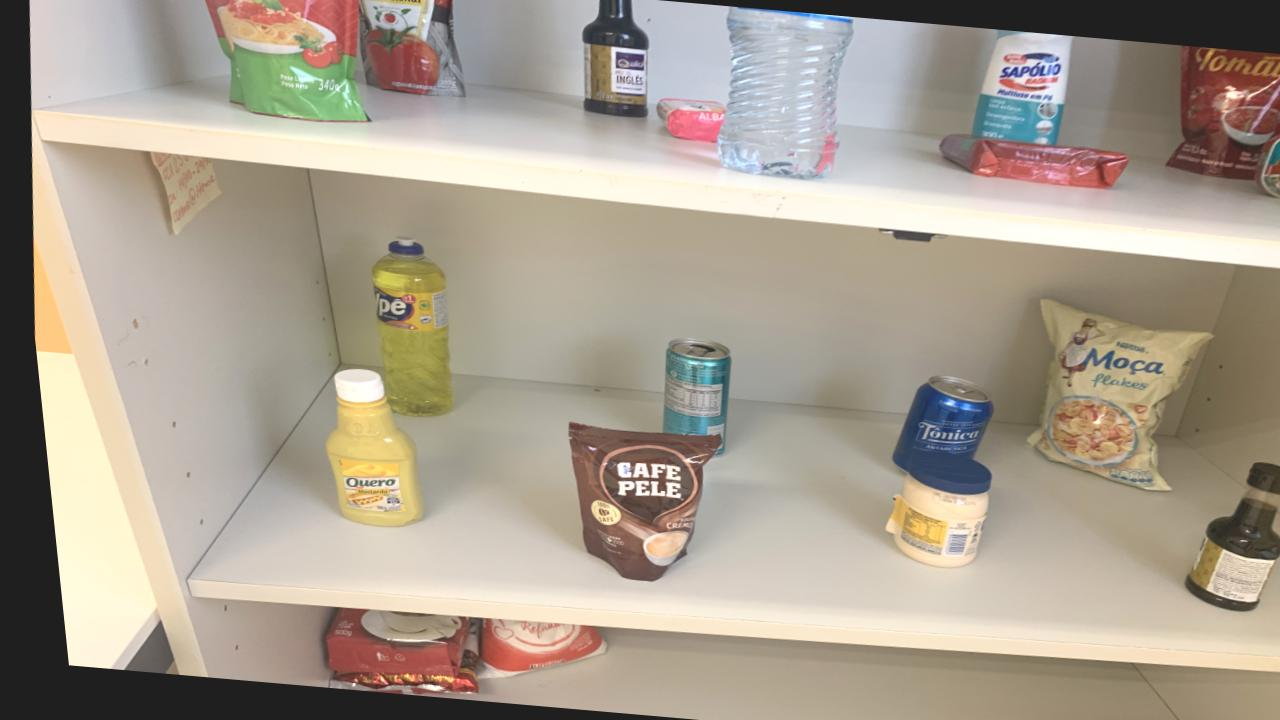Cleaner-Cleanup_Items: (969, 30, 1070, 146)
Coffee-Pantry_Items: (558, 423, 712, 582)
Detergent-Cleanup_Items: (366, 239, 443, 417)
English_Sauce-Pantry_Items: (1172, 462, 1280, 611), (581, 0, 649, 118)
Flakes-Snacks: (1018, 299, 1204, 491)
Guava-Snacks: (937, 134, 1125, 188)
Mayonnaise-Pantry_Items: (874, 451, 980, 568)
Mustard-Pantry_Items: (315, 369, 413, 527)
Soap-Cleanup_Items: (653, 98, 724, 143)
Tea-Drinks: (654, 338, 722, 455)
Tomato_Sauce-Pantry_Items: (205, 0, 365, 122), (1162, 46, 1280, 180), (360, 0, 463, 96)
Tonic-Drinks: (882, 375, 983, 469)
Tuna_Can-Pantry_Items: (1253, 136, 1280, 198)
Water_Bottle-Drinks: (713, 6, 852, 179)
